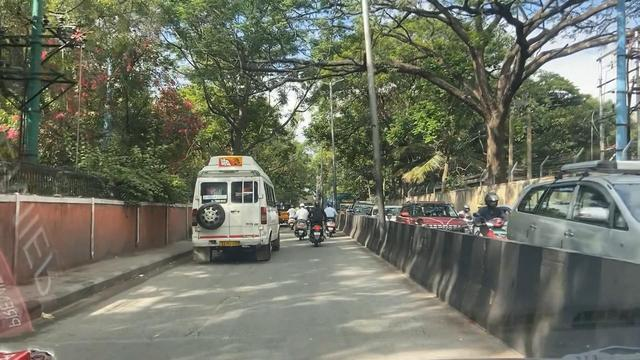HMV: (196, 158, 274, 264)
LMV: (299, 192, 329, 251)
